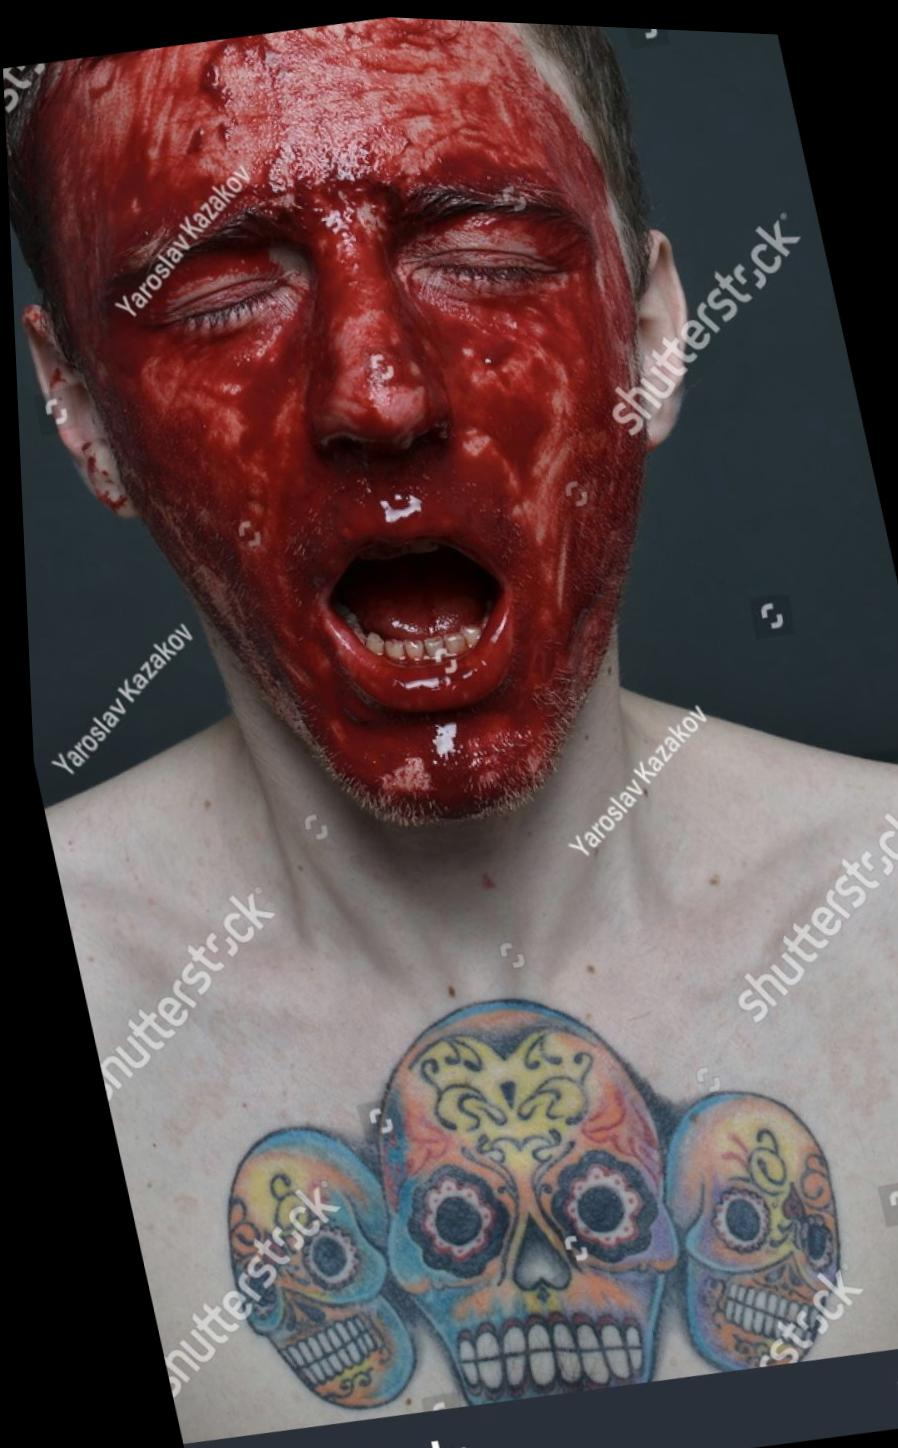Fire: (33, 13, 642, 819), (56, 435, 129, 515), (17, 303, 76, 401)
